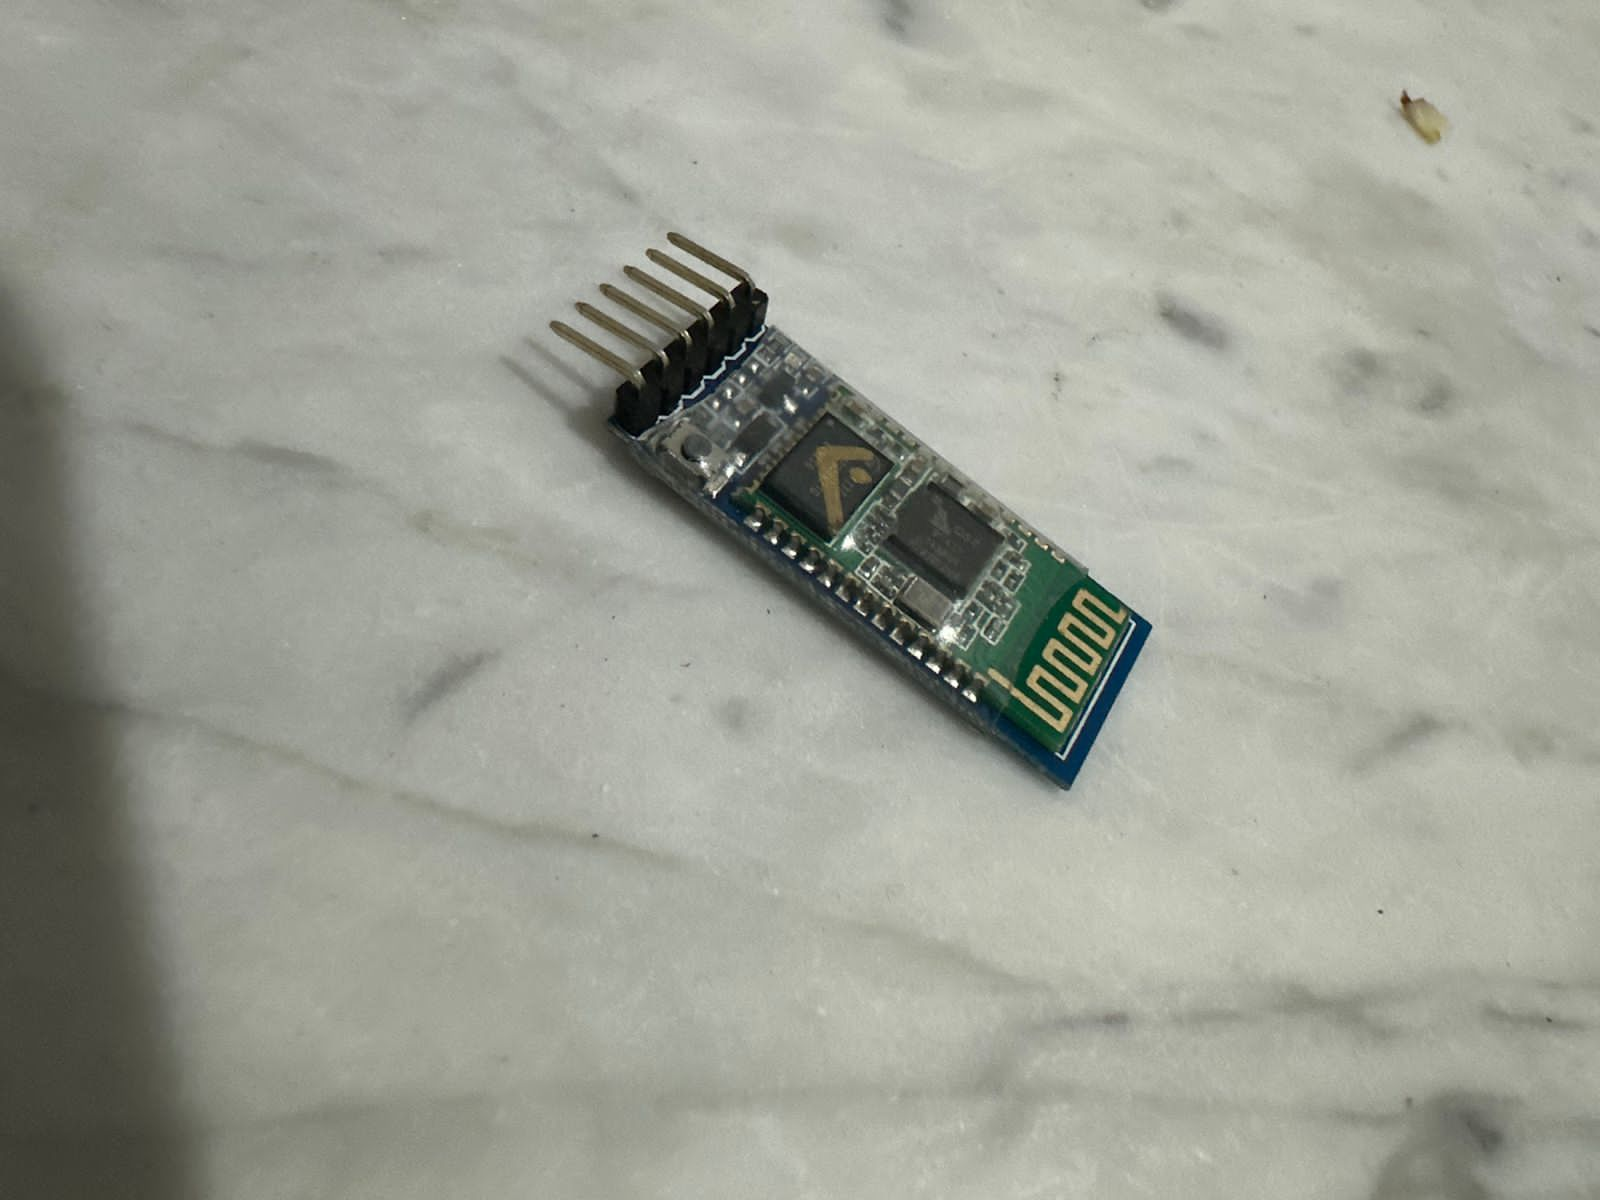module-bluetooth: (535, 221, 1164, 805)
